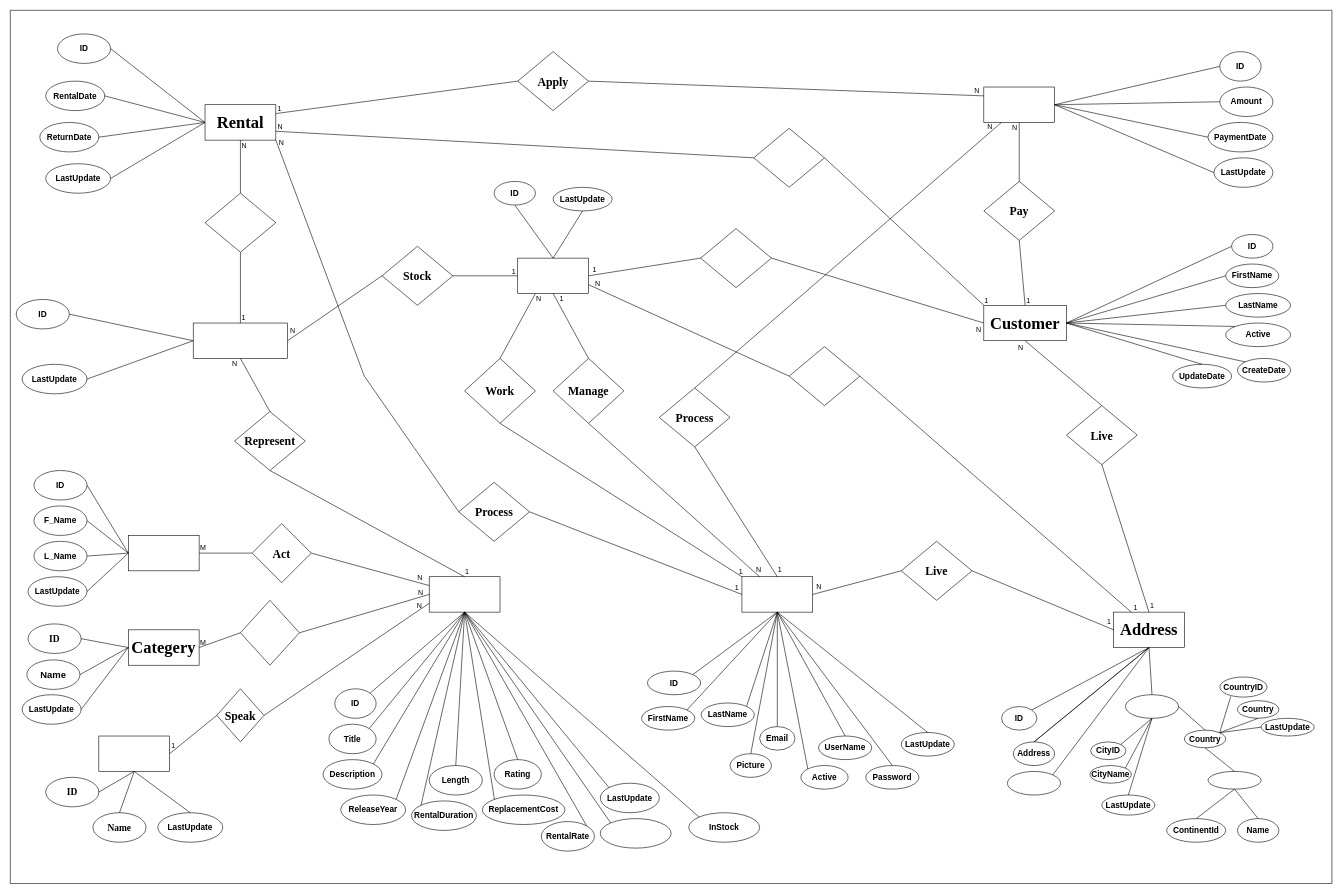
This 1343x894 diagram has some shape labels left out. The box of each missing label's shape, as (x1, y1, x2, y2) in pixels:
Actor: (128, 535, 199, 571)
Categorize: (240, 600, 299, 665)
City: (1125, 694, 1179, 718)
Continent: (1207, 771, 1261, 789)
Film: (429, 576, 500, 612)
Inventory: (193, 322, 288, 358)
Languge: (98, 735, 170, 771)
Paid: (789, 346, 860, 406)
Payment: (983, 86, 1055, 122)
PostCode: (1007, 771, 1061, 795)
Rent: (753, 128, 825, 187)
shop: (700, 228, 771, 288)
SpecialFeature: (600, 818, 671, 848)
Staff: (741, 576, 813, 612)
Store: (517, 258, 589, 294)
Strip: (204, 193, 276, 252)
